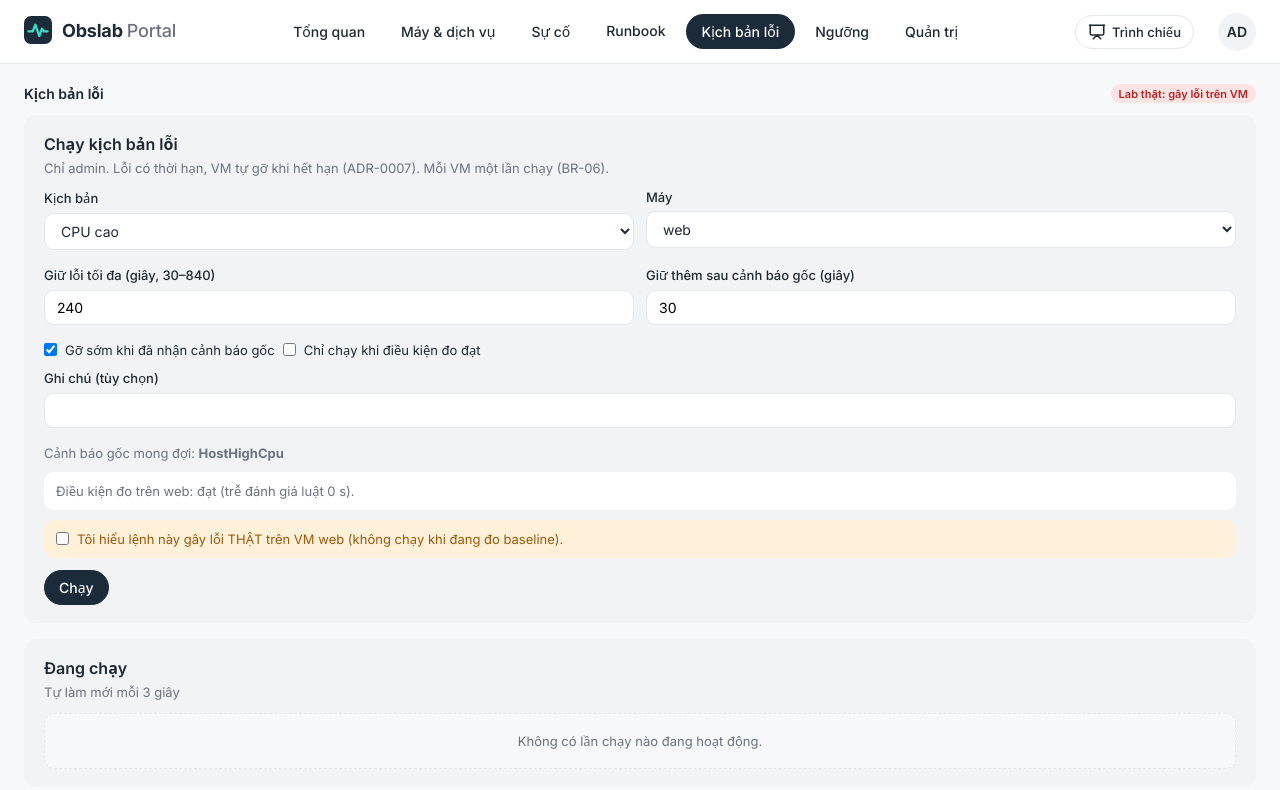
it: kịch bản lỗi › lab thật: phải đánh dấu xác nhận mới chạy
Expected: the text "Lab thật: gây lỗi trên VM" is shown, [1111,84,1256,103]
Click the button "Chạy". click: click(76, 588)
box: [44,570,109,605]
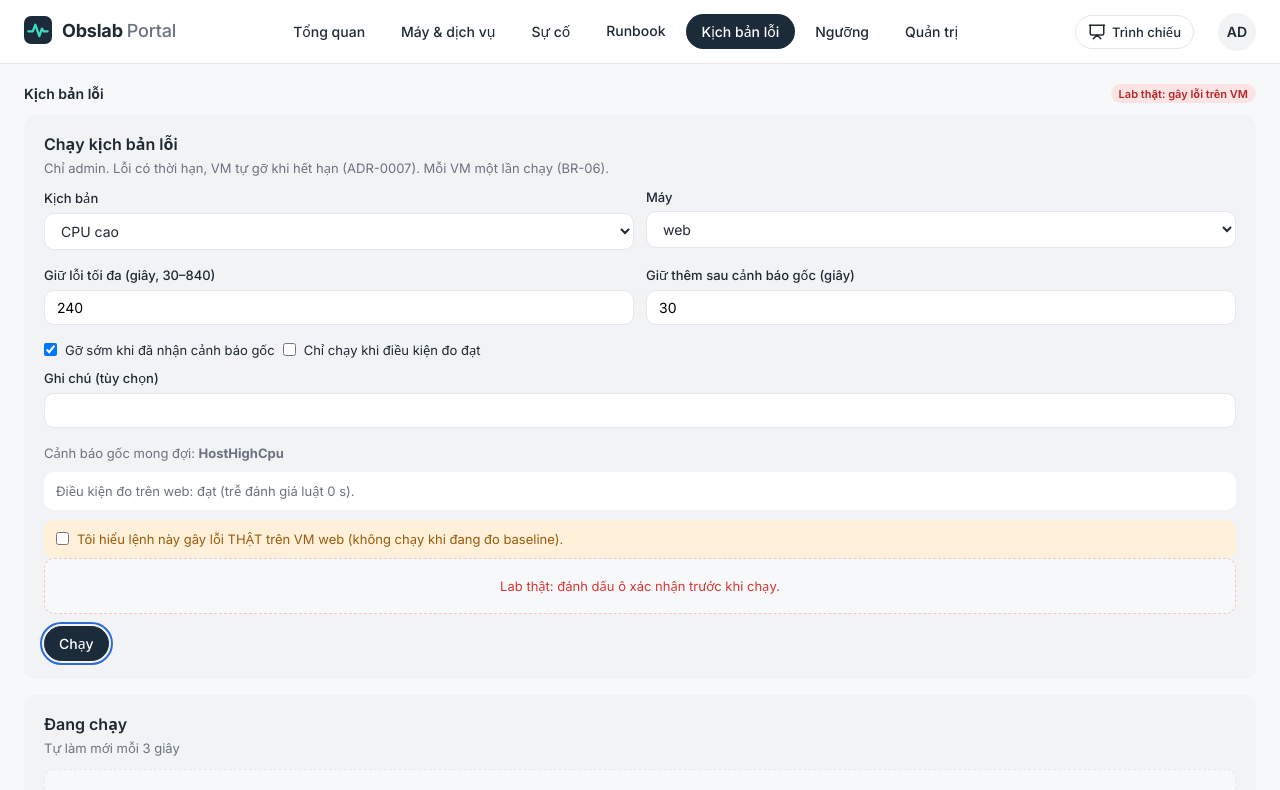
Expected: the text "Lab thật: đánh dấu ô xác nhận trước khi chạy." is shown, [44,558,1236,614]
